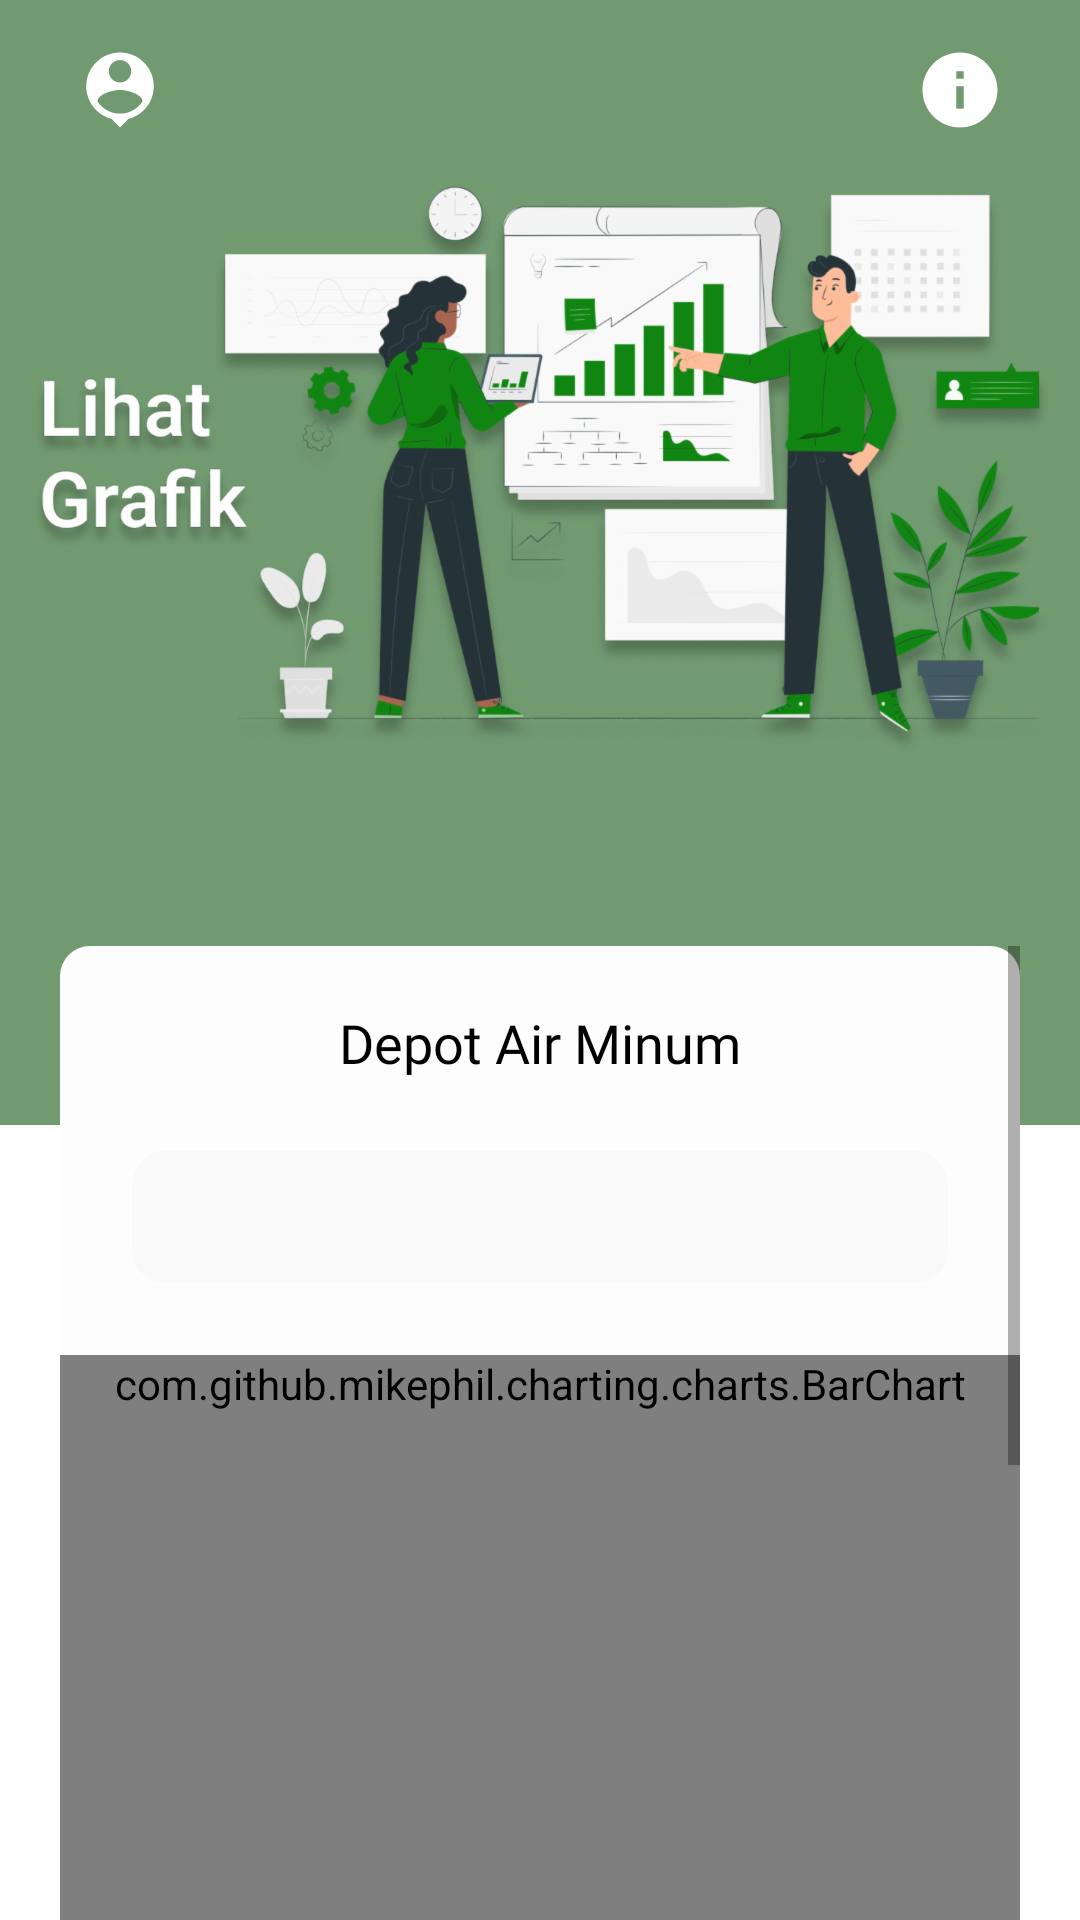

Locate icon controls on the screen. Image size 1080x1920, boxes as (x1, y1, x2, y2).
info: (922, 52, 998, 128)
person pin: (86, 52, 154, 127)
